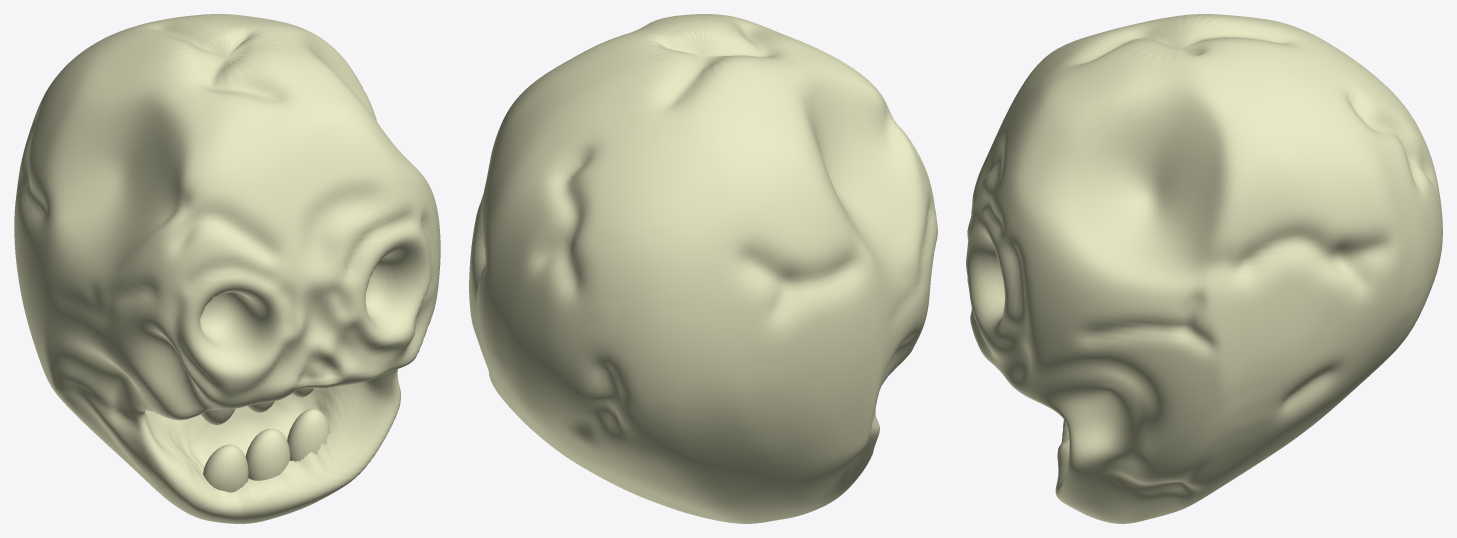
Rendered from Skull.fbx.
3 renders of one model, left to right at view 1: azimuth 30°, elevation 25°; view 2: azimuth 150°, elevation 25°; view 3: azimuth 270°, elevation 25°, orthographic. The views are drawn at different scales.
Visible parts, largest first — view 1: Sphere.002; view 2: Sphere.002; view 3: Sphere.002.
Part boxes in pixels (x1,y1,x2,y2): Sphere.002: [14, 14, 440, 523]; Sphere.002: [469, 14, 937, 523]; Sphere.002: [966, 14, 1442, 523].
Size of the model in its own units: 15.4 by 18.2 by 16.99.
